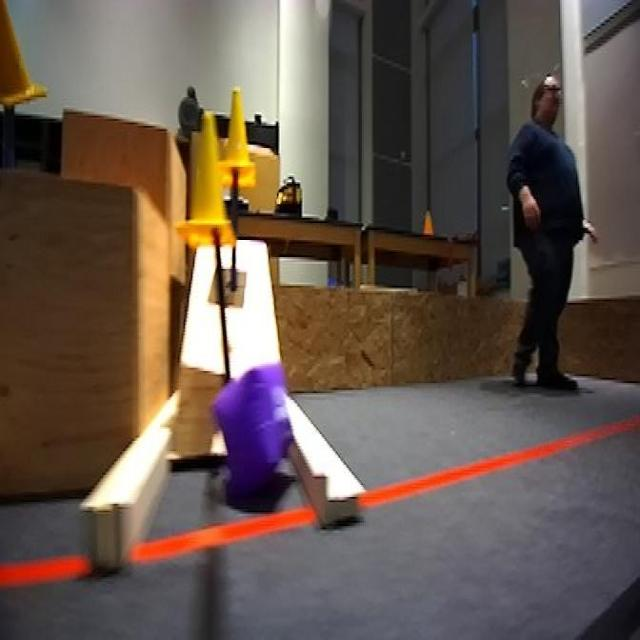frc_cone: (165, 104, 233, 254), (0, 0, 48, 112), (216, 83, 260, 184)
frc_cube: (212, 361, 297, 502)
